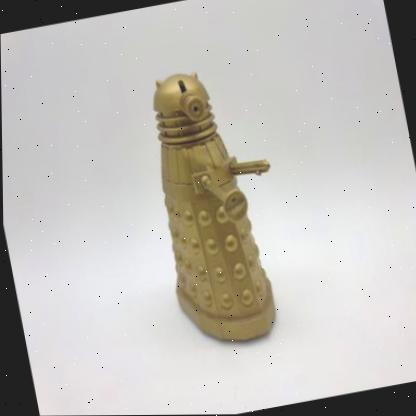dalek: (91, 43, 330, 382)
